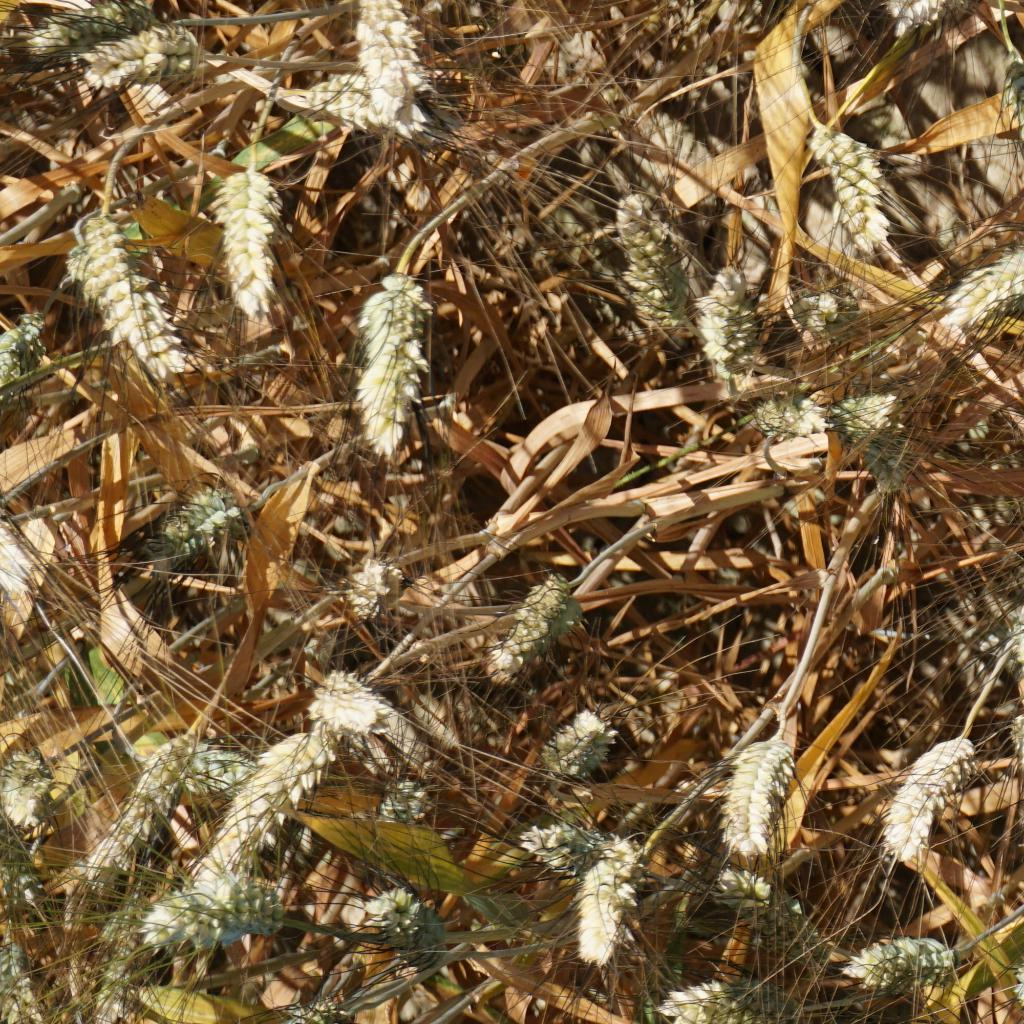0-0: (187, 713, 348, 883), (65, 207, 196, 381), (352, 263, 440, 470), (601, 185, 689, 348), (880, 726, 981, 864), (715, 864, 838, 975), (212, 161, 292, 326), (477, 569, 583, 683), (809, 126, 905, 248), (131, 483, 259, 574), (136, 874, 284, 950), (2, 0, 152, 70), (726, 732, 797, 863), (73, 27, 209, 95), (102, 748, 177, 867), (303, 665, 397, 752), (843, 928, 971, 989), (688, 267, 759, 375), (940, 220, 1024, 311), (295, 65, 409, 132), (356, 0, 422, 115), (668, 974, 802, 1024), (375, 880, 451, 961), (580, 839, 624, 967), (0, 308, 52, 415), (544, 709, 617, 782), (336, 551, 406, 626), (512, 813, 600, 870), (0, 744, 58, 826), (857, 435, 924, 499), (756, 379, 823, 436), (376, 775, 439, 835), (179, 742, 251, 786), (839, 382, 896, 436), (0, 841, 42, 914), (992, 42, 1024, 137), (799, 274, 840, 335), (0, 946, 39, 1008), (1004, 587, 1024, 691), (876, 0, 964, 16)
